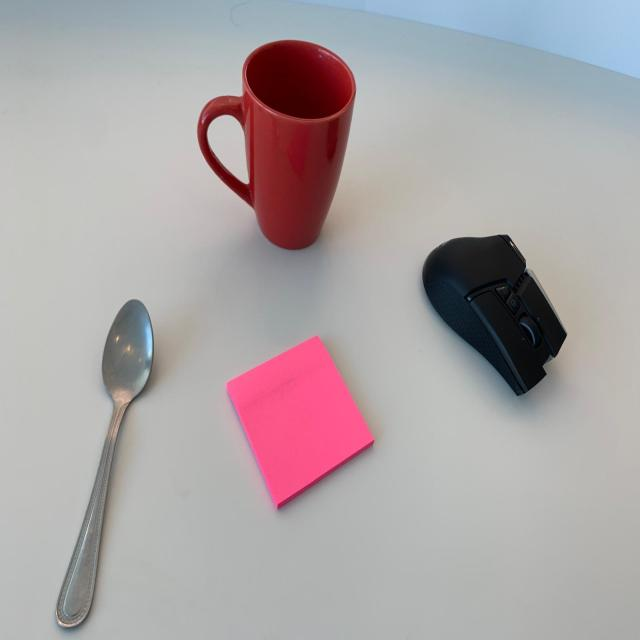Cup: (186, 32, 369, 281)
Mouse: (411, 225, 592, 403)
Spoon: (20, 291, 174, 633)
